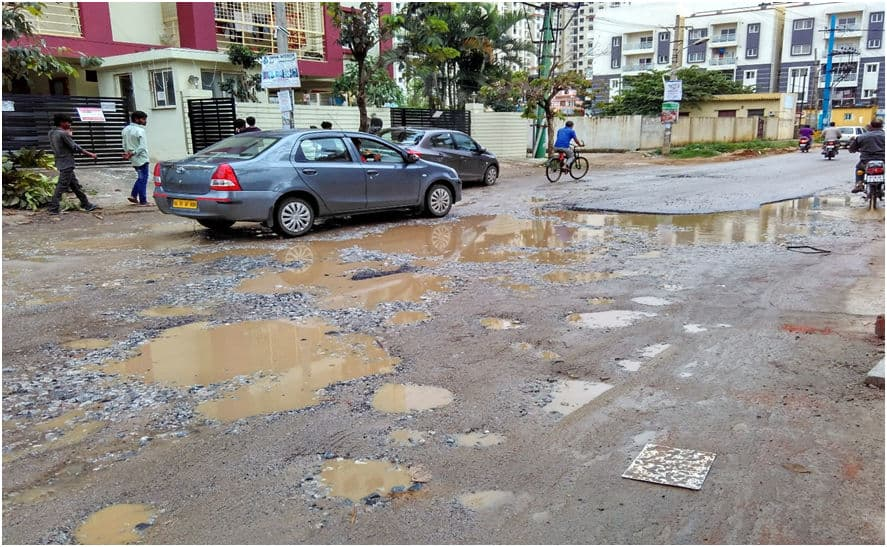pothole: (92, 320, 385, 413), (371, 191, 555, 270), (294, 443, 421, 504), (51, 495, 167, 542), (367, 367, 459, 424), (571, 293, 655, 333)
